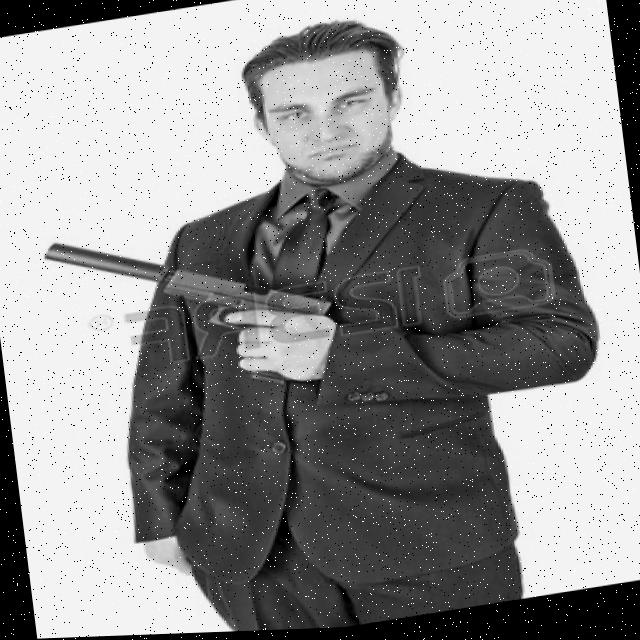pistol: (42, 202, 336, 363)
